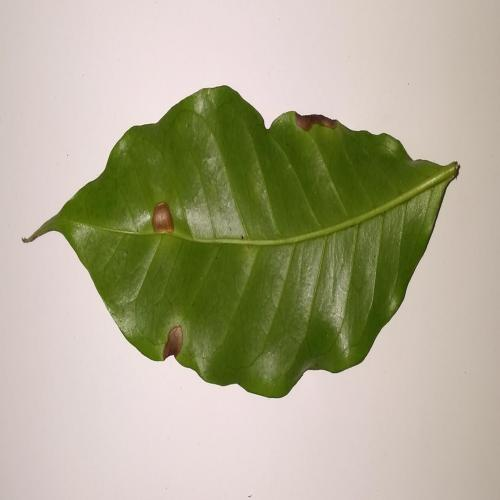miner: (294, 112, 339, 130)
